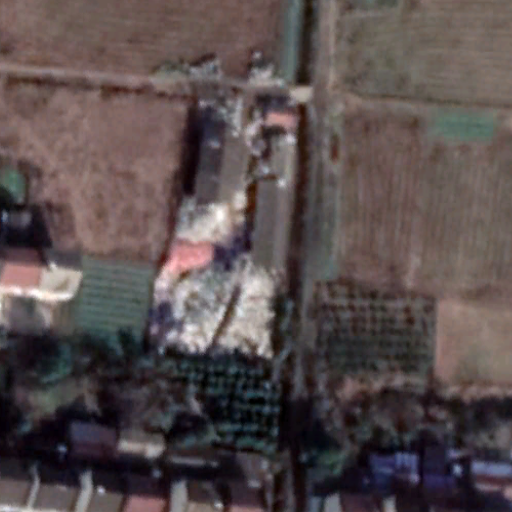msw: (150, 261, 280, 364)
